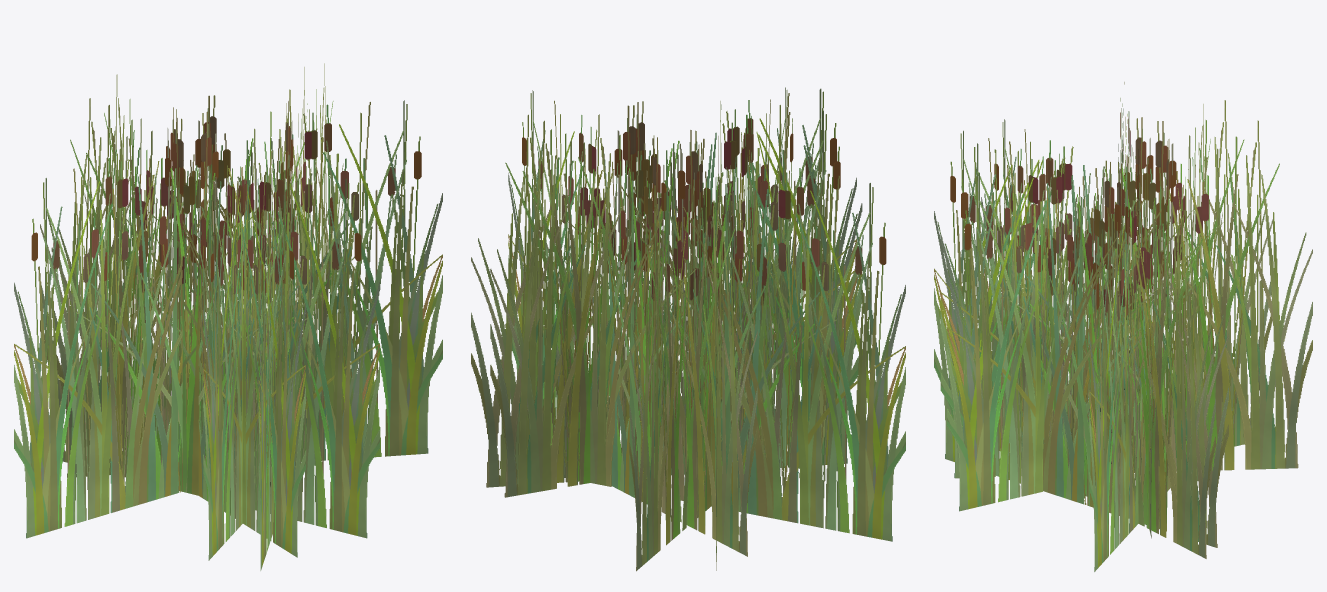
Rendered from Reed_2.gltf.
The picture shows the model from 3 angles, left to right: view 1: azimuth 30°, elevation 25°; view 2: azimuth 150°, elevation 25°; view 3: azimuth 270°, elevation 25°; orthographic projection. The views are drawn at different scales.
Parts seen in each view (by area): view 1: Reed_2; view 2: Reed_2; view 3: Reed_2.
Boxes of the visible parts, x1,y1,x2,y2 form: Reed_2: (14, 63, 442, 570); Reed_2: (471, 87, 905, 571); Reed_2: (934, 82, 1312, 571).
Bounding box in the file's own units: 1.69 × 1.55 × 1.42.
Materials: 1 (1 with a texture image).
